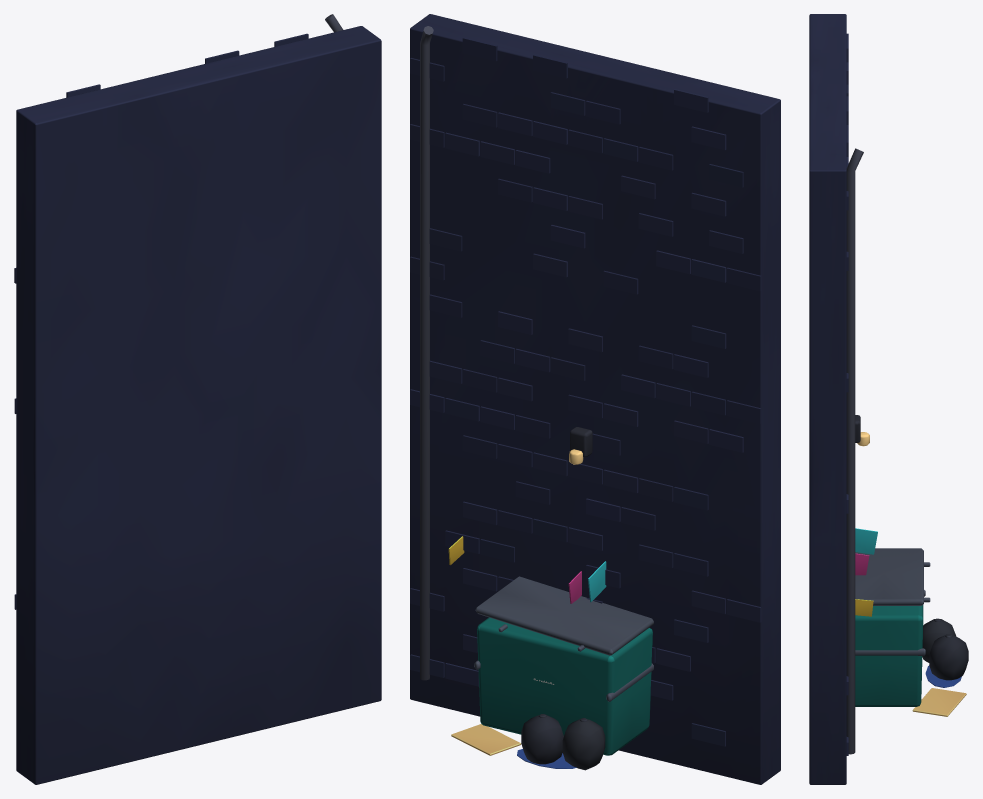
Rendered from SM_City_AlleyEnd_400.fbx.
3 views of the same model, side by side, from view 1: azimuth 30°, elevation 25°; view 2: azimuth 150°, elevation 25°; view 3: azimuth 270°, elevation 25° (orthographic). The views are drawn at different scales.
Parts seen in each view (by area): view 1: SM_City_AlleyEnd_400; view 2: SM_City_AlleyEnd_400; view 3: SM_City_AlleyEnd_400.
Boxes of the visible parts, x1,y1,x2,y2 form: SM_City_AlleyEnd_400: [14, 14, 381, 784]; SM_City_AlleyEnd_400: [410, 14, 780, 784]; SM_City_AlleyEnd_400: [809, 14, 968, 784].
Size of the model in its own units: 400 by 743 by 171.
